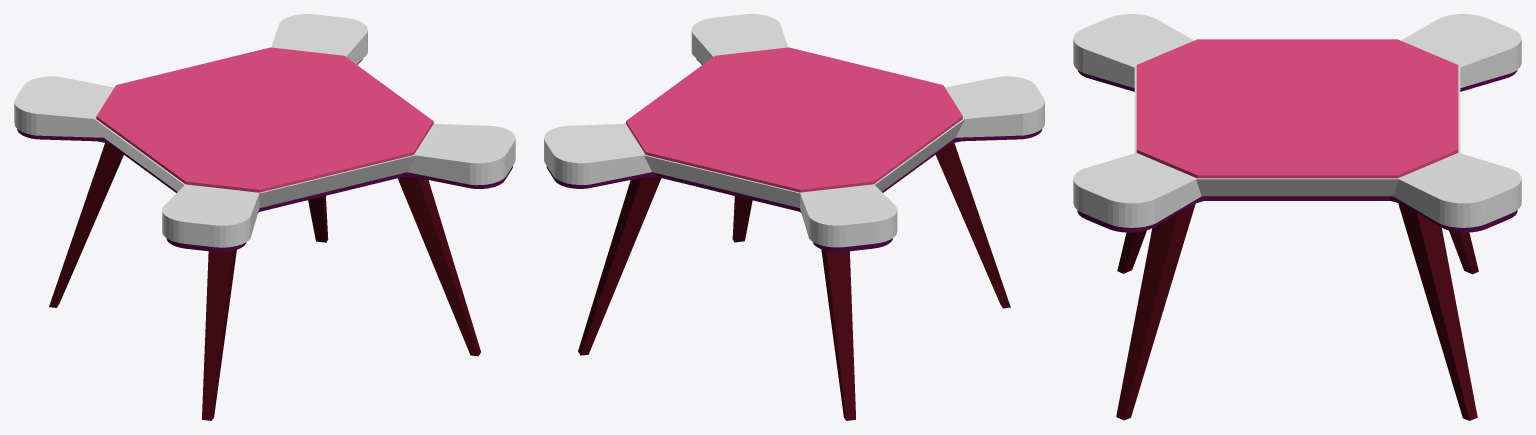
Rendered from masasal.fbx.
The picture shows the model from 3 angles, left to right: view 1: azimuth 30°, elevation 25°; view 2: azimuth 150°, elevation 25°; view 3: azimuth 270°, elevation 25°; orthographic projection. The views are drawn at different scales.
Visible parts, largest first — view 1: Plane; view 2: Plane; view 3: Plane.
Boxes of the visible parts, bbox=[...] form: Plane: bbox=[14, 14, 515, 420]; Plane: bbox=[544, 14, 1044, 420]; Plane: bbox=[1073, 14, 1521, 420].
Size of the model in its own units: 1157 by 675 by 1157.
